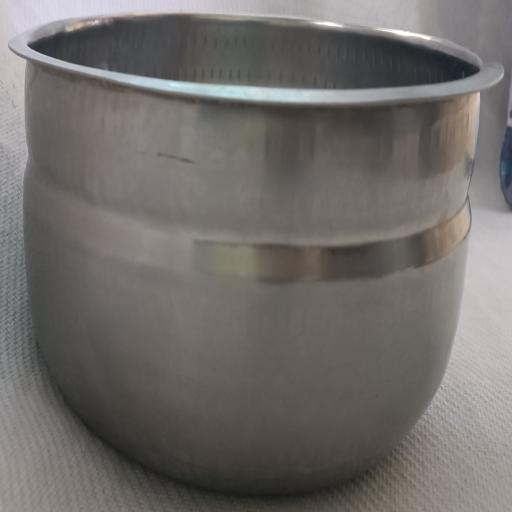vessel: (10, 14, 502, 493)
